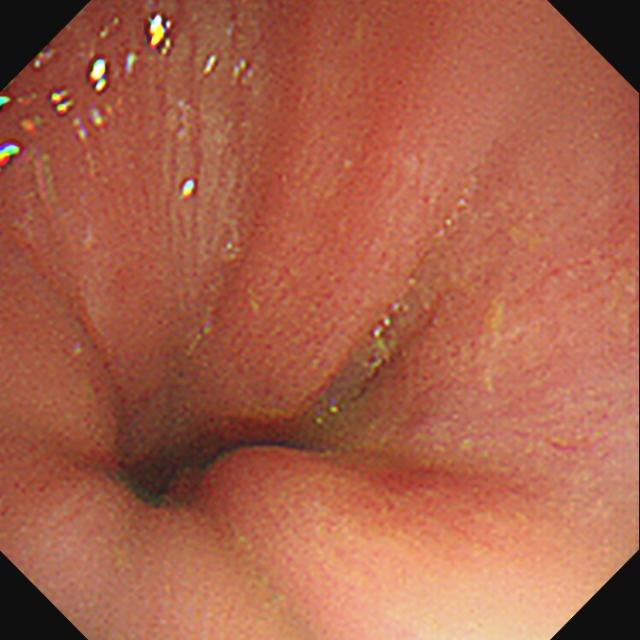E: (136, 404, 343, 497)
U: (145, 14, 177, 58), (86, 51, 112, 97), (78, 109, 116, 139), (47, 87, 77, 118), (175, 177, 199, 203), (2, 142, 23, 170)
